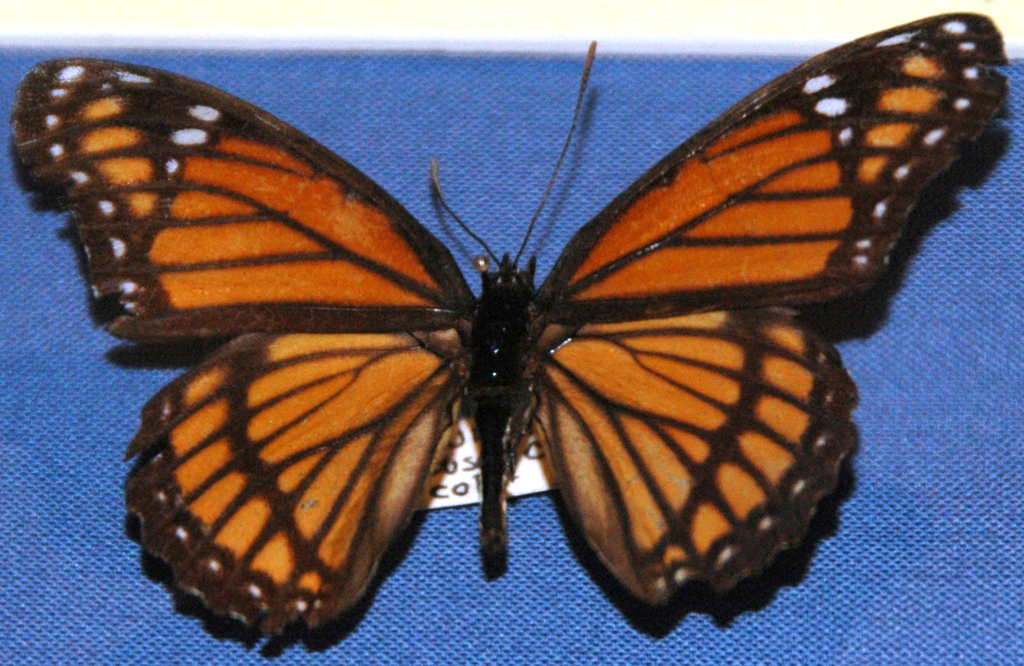Butterfly: (1, 48, 982, 621)
